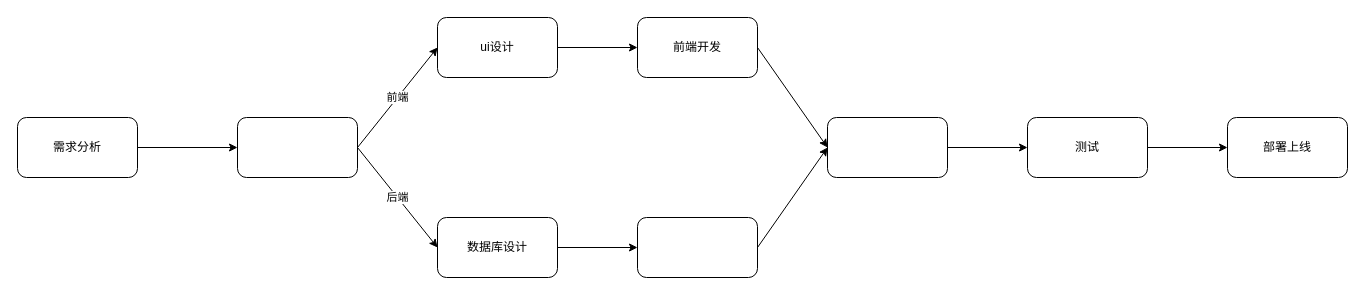
Some shapes in this 1365 by 295 pixel diagram are drawn without their labels. The shapes that lost their labels are listed below. From the top down, each one's box as (x1, y1, x2, y2) in pixels, then its label:
(236, 116, 358, 178): 制作原型
(826, 116, 948, 178): 前后端联调
(636, 216, 758, 278): 后端开发
